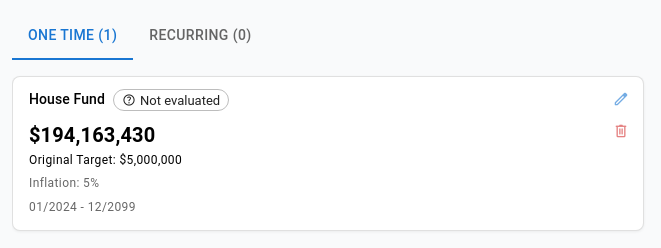
Test case: GoalBox › Recurring tab content › should show empty state when no recurring goals exist
Click the tab "Recurring (0)". click: x=200, y=36
box: [133,12,268,60]
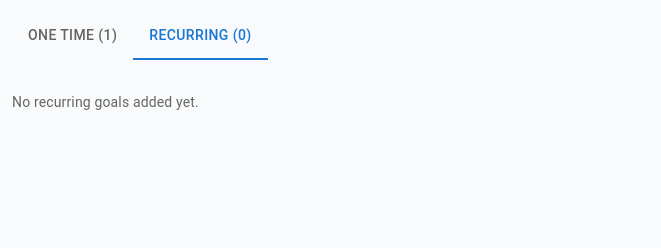
Expected: the text "No recurring goals added yet." is shown, [12,94,199,110]
